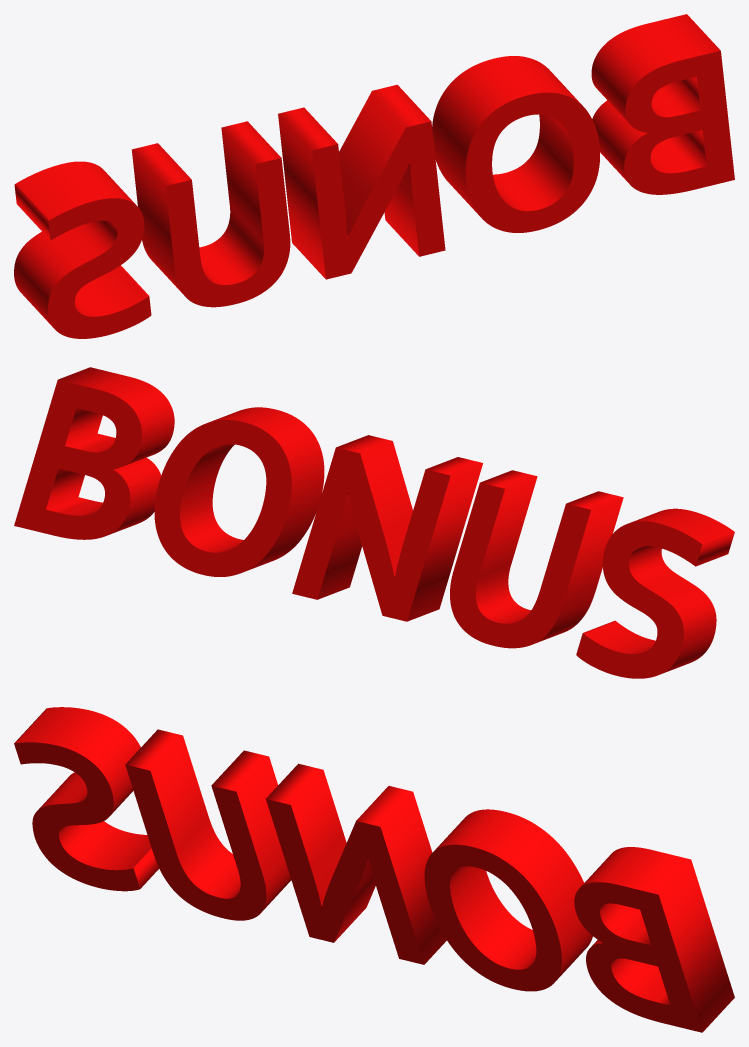
The model's file is BONUS.obj.
3 renders of one model, top to bottom at view 1: azimuth 30°, elevation 25°; view 2: azimuth 150°, elevation 25°; view 3: azimuth 330°, elevation 25°, orthographic. The views are drawn at different scales.
Parts seen in each view (by area): view 1: テキスト; view 2: テキスト; view 3: テキスト.
Boxes of the visible parts, x1,y1,x2,y2 form: テキスト: [14, 14, 734, 338]; テキスト: [14, 367, 734, 678]; テキスト: [14, 707, 734, 1032].
Size of the model in its own units: 12.33 by 2.78 by 1.53.
Materials: 1 (1 with a texture image).
